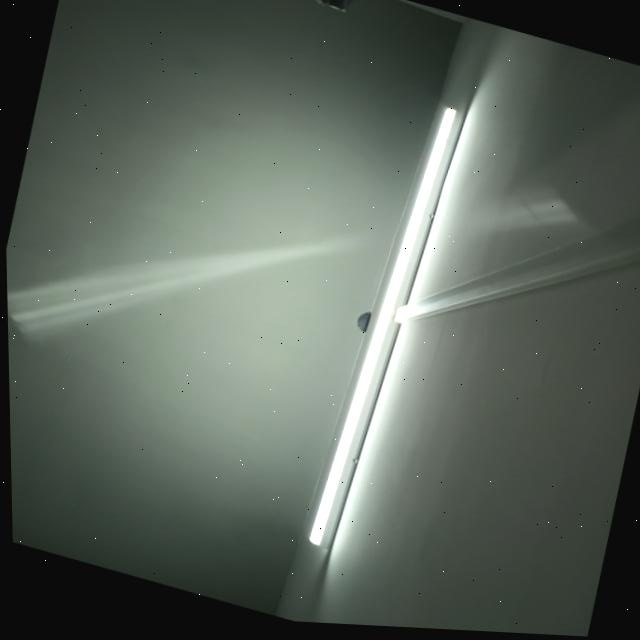fluorescent tube: (282, 79, 483, 574)
